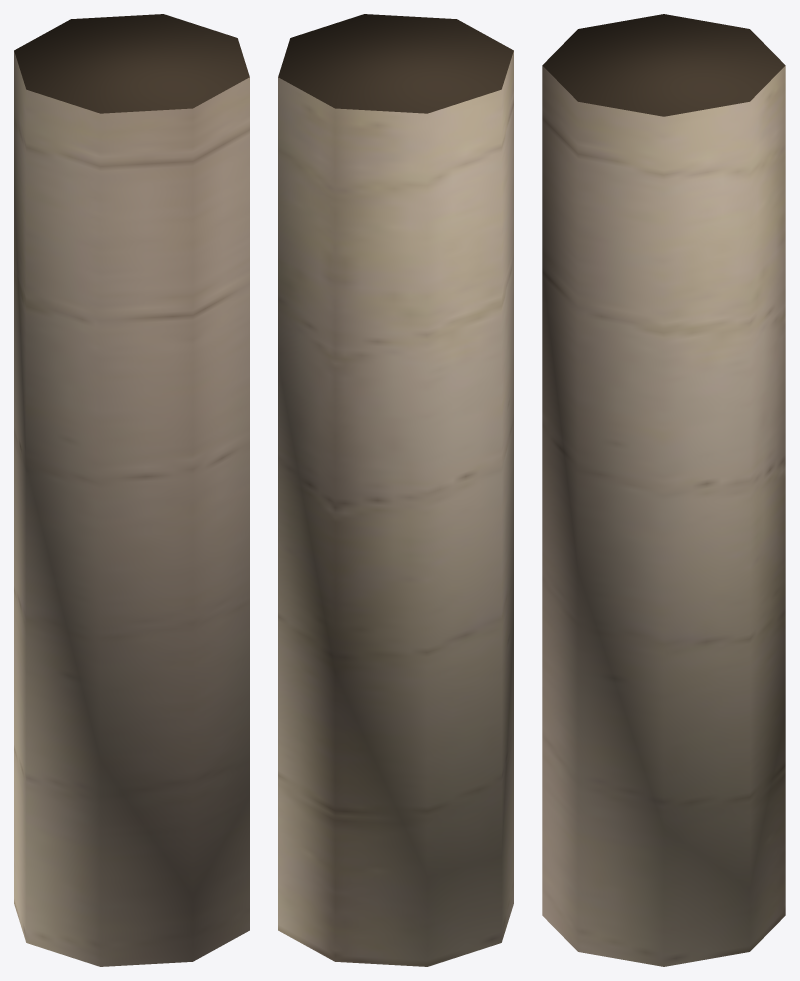
Rendered from pipe1.fbx.
3 renders of one model, left to right at view 1: azimuth 30°, elevation 25°; view 2: azimuth 150°, elevation 25°; view 3: azimuth 270°, elevation 25°, orthographic.
Visible parts, largest first — view 1: Cylinder.001; view 2: Cylinder.001; view 3: Cylinder.001.
Boxes of the visible parts, left/top/right/bottom form: Cylinder.001: left=14, top=14, right=249, bottom=966; Cylinder.001: left=278, top=14, right=513, bottom=966; Cylinder.001: left=542, top=14, right=785, bottom=966.
Size of the model in its own units: 62.36 by 240 by 62.36.
